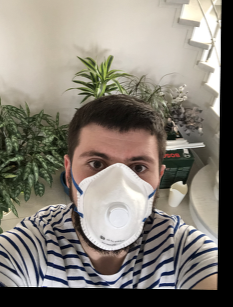with_mask: (73, 137, 157, 254)
